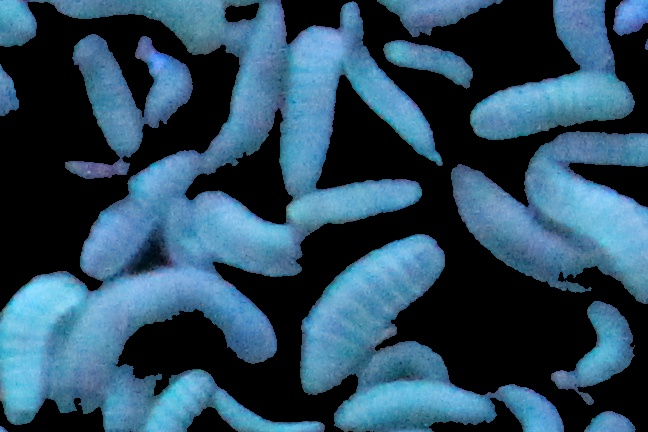larvae: (48, 272, 275, 396), (298, 233, 446, 396), (451, 165, 597, 291), (527, 159, 647, 294), (77, 151, 201, 277), (342, 13, 443, 165), (1, 272, 87, 423), (213, 1, 285, 165), (474, 73, 633, 142), (285, 26, 342, 196), (189, 194, 303, 276), (69, 35, 143, 156), (333, 381, 492, 432), (284, 179, 421, 227), (571, 298, 634, 387), (552, 2, 622, 74), (357, 340, 450, 393), (211, 388, 322, 432), (383, 35, 473, 88), (146, 372, 217, 432), (497, 379, 563, 432)
